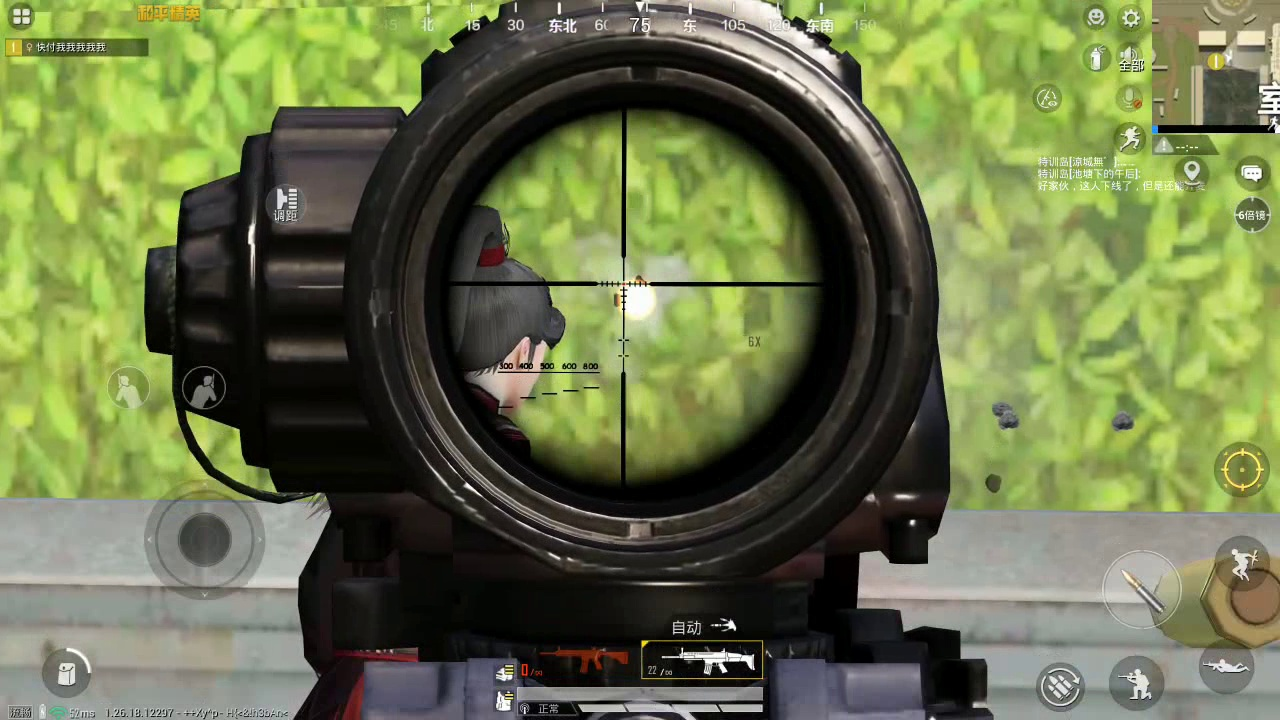enemy: (432, 204, 560, 439)
